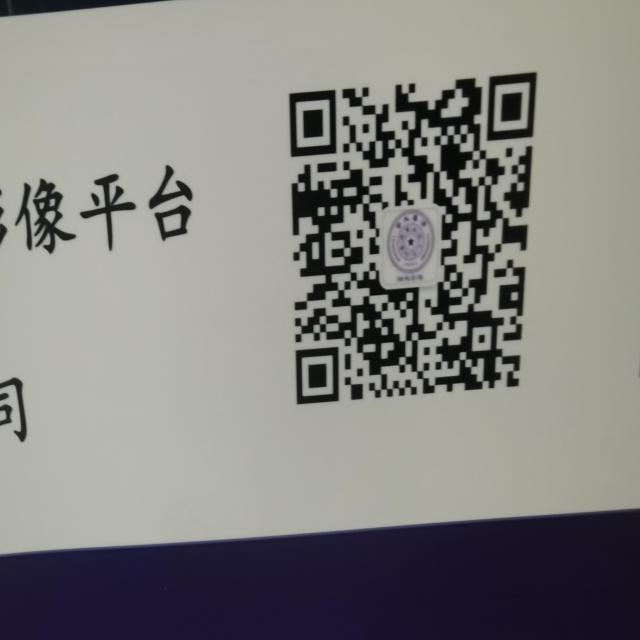qr_code: (287, 70, 538, 404)
